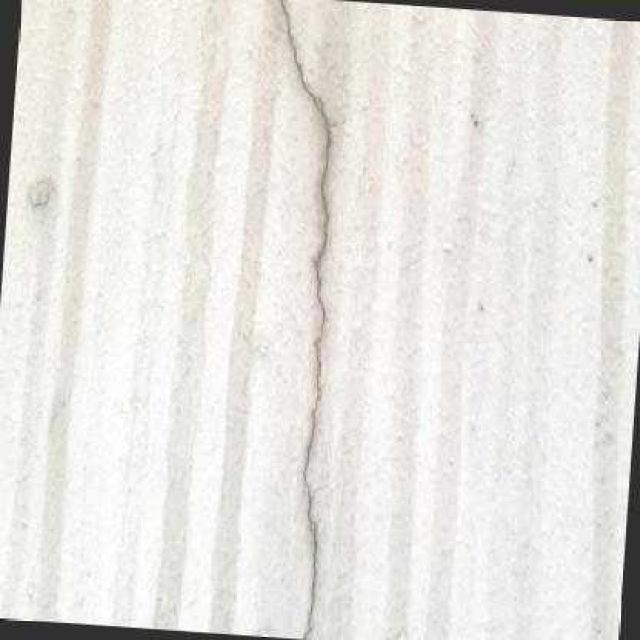D00: (279, 0, 331, 640)
